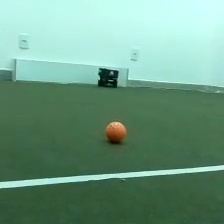ball: (103, 119, 128, 145)
goal: (10, 56, 130, 89)
robot: (96, 65, 120, 89)
